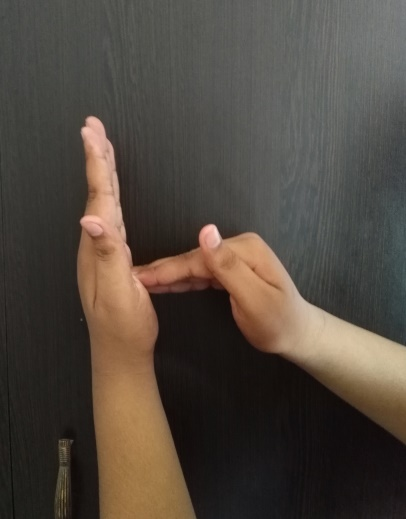ga: (72, 115, 315, 367)
